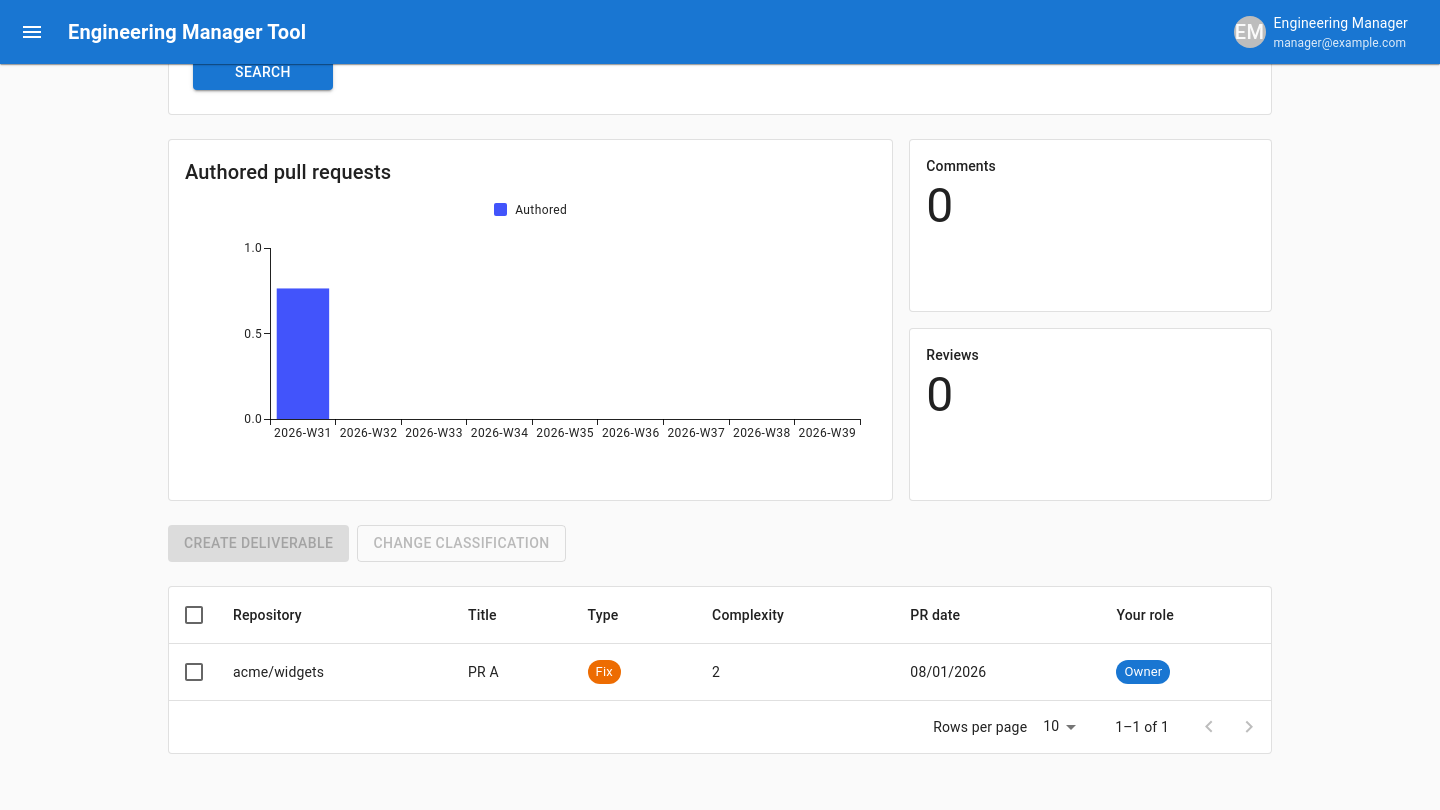
Scenario: 021 create deliverable review › shows proposal after analyze and cancel does not create
(page scrolled)
expect the text "PR A" is shown: met, box [452,643,572,700]
Click the checkbox named "Select pull request" at point(194, 672), box [182,660,206,684]
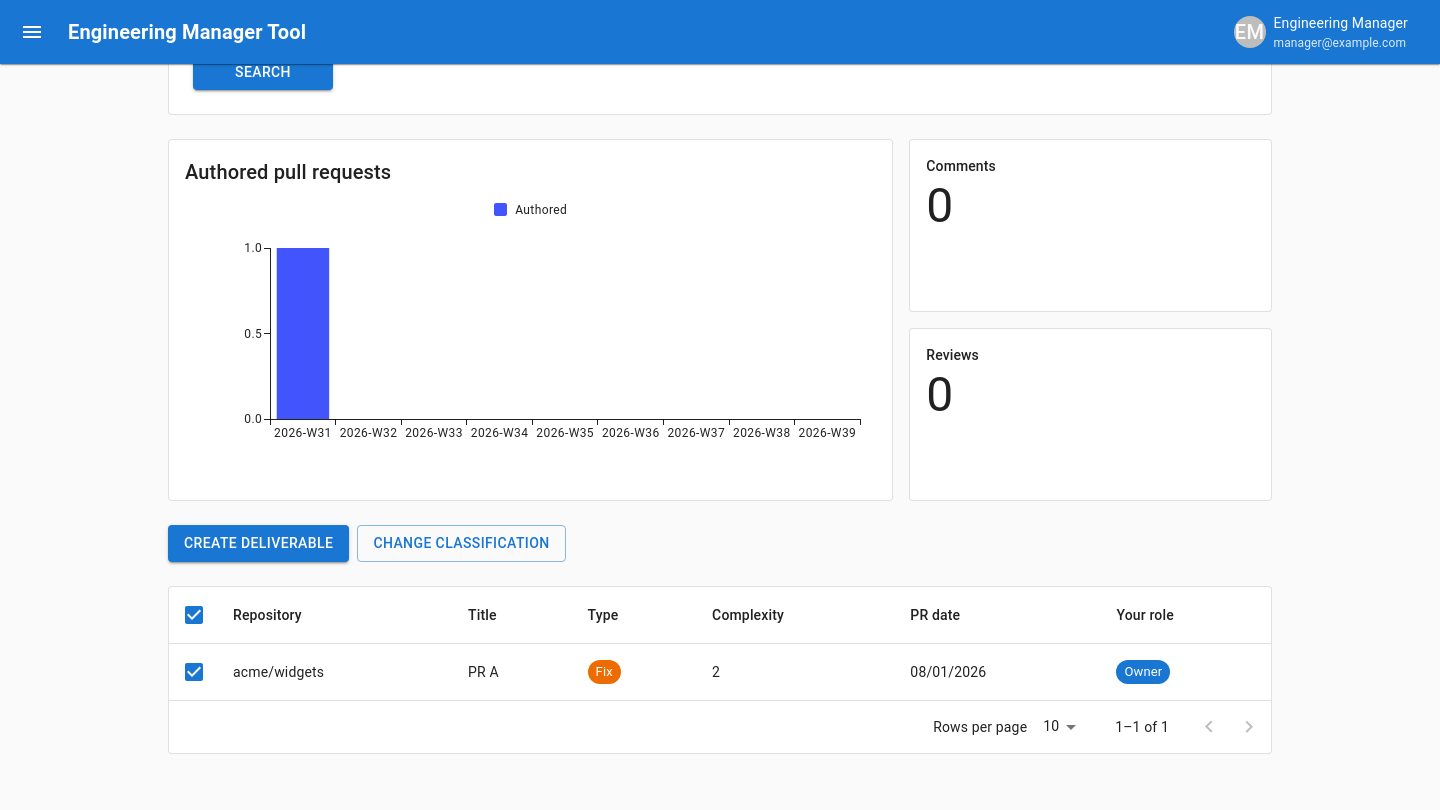
Click the button with test id "create-deliverable-button" at point(259, 544), box [168,525,349,562]
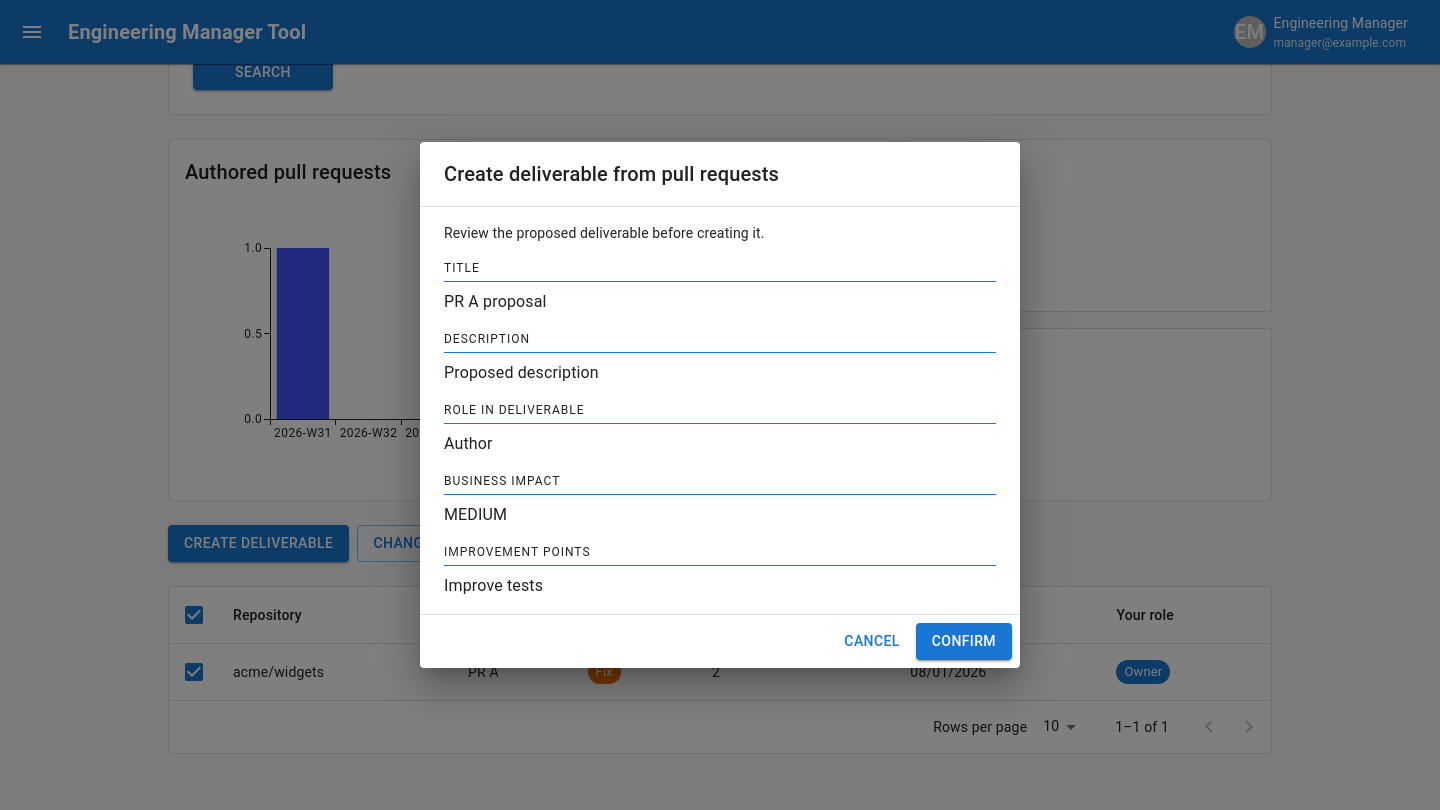
expect the element with test id "create-deliverable-review" is shown: met, box [444,223,996,598]
expect the text "PR A proposal" is shown: met, box [444,292,547,311]
expect the button with test id "create-deliverable-confirm" is shown: met, box [916,623,1012,660]
Click the button "Cancel" at point(872, 642), box [836,623,908,660]
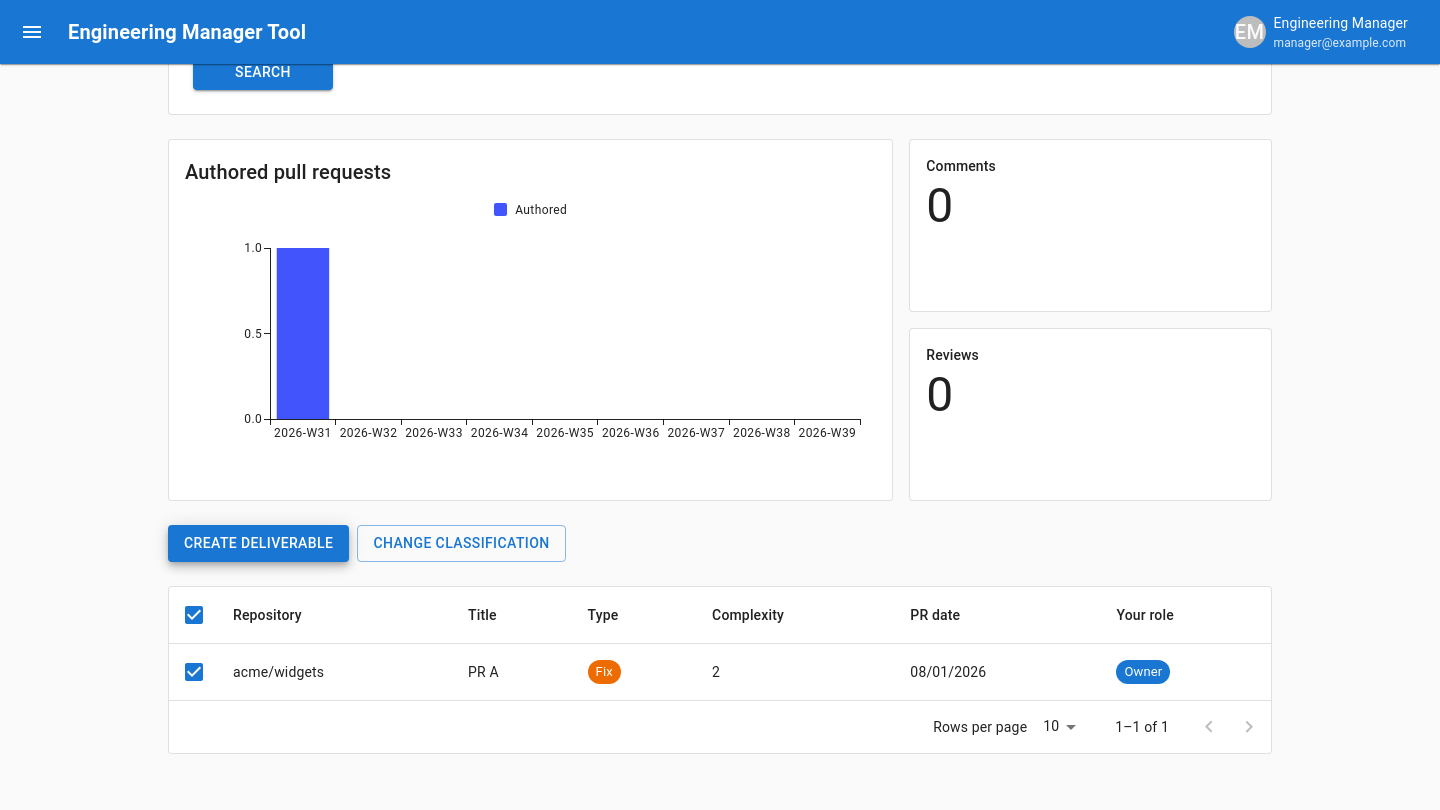
expect the element with test id "create-deliverable-review" is gone: met
